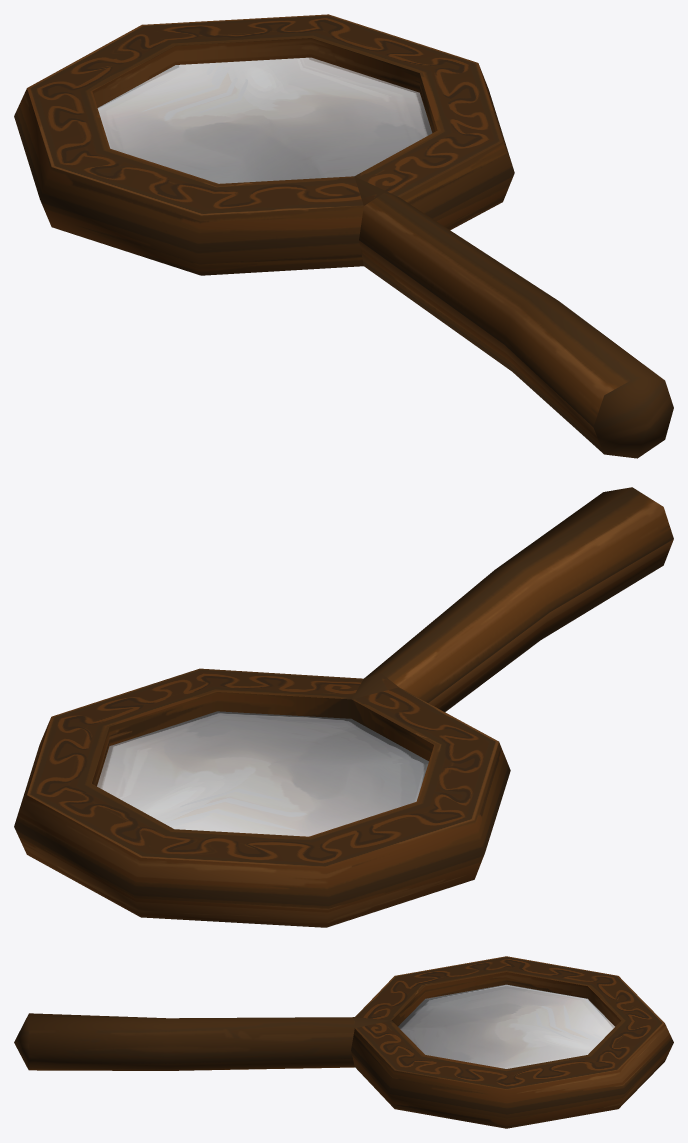
Rendered from SM_PROP_magnifyingglass_interior.fbx.
3 renders of one model, top to bottom at view 1: azimuth 30°, elevation 25°; view 2: azimuth 150°, elevation 25°; view 3: azimuth 270°, elevation 25°, orthographic. The views are drawn at different scales.
Visible parts, largest first — view 1: SM_PROP_magnifyingglass_interior; view 2: SM_PROP_magnifyingglass_interior; view 3: SM_PROP_magnifyingglass_interior.
Boxes of the visible parts, x1,y1,x2,y2 form: SM_PROP_magnifyingglass_interior: (14, 14, 673, 458); SM_PROP_magnifyingglass_interior: (14, 487, 673, 927); SM_PROP_magnifyingglass_interior: (14, 956, 673, 1128).
Size of the model in its own units: 13.38 by 2.33 by 26.49.
